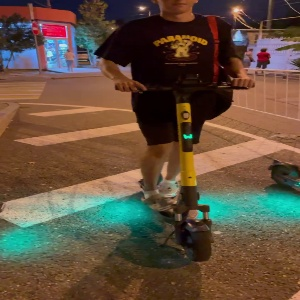human on a scooter: (92, 1, 261, 265)
